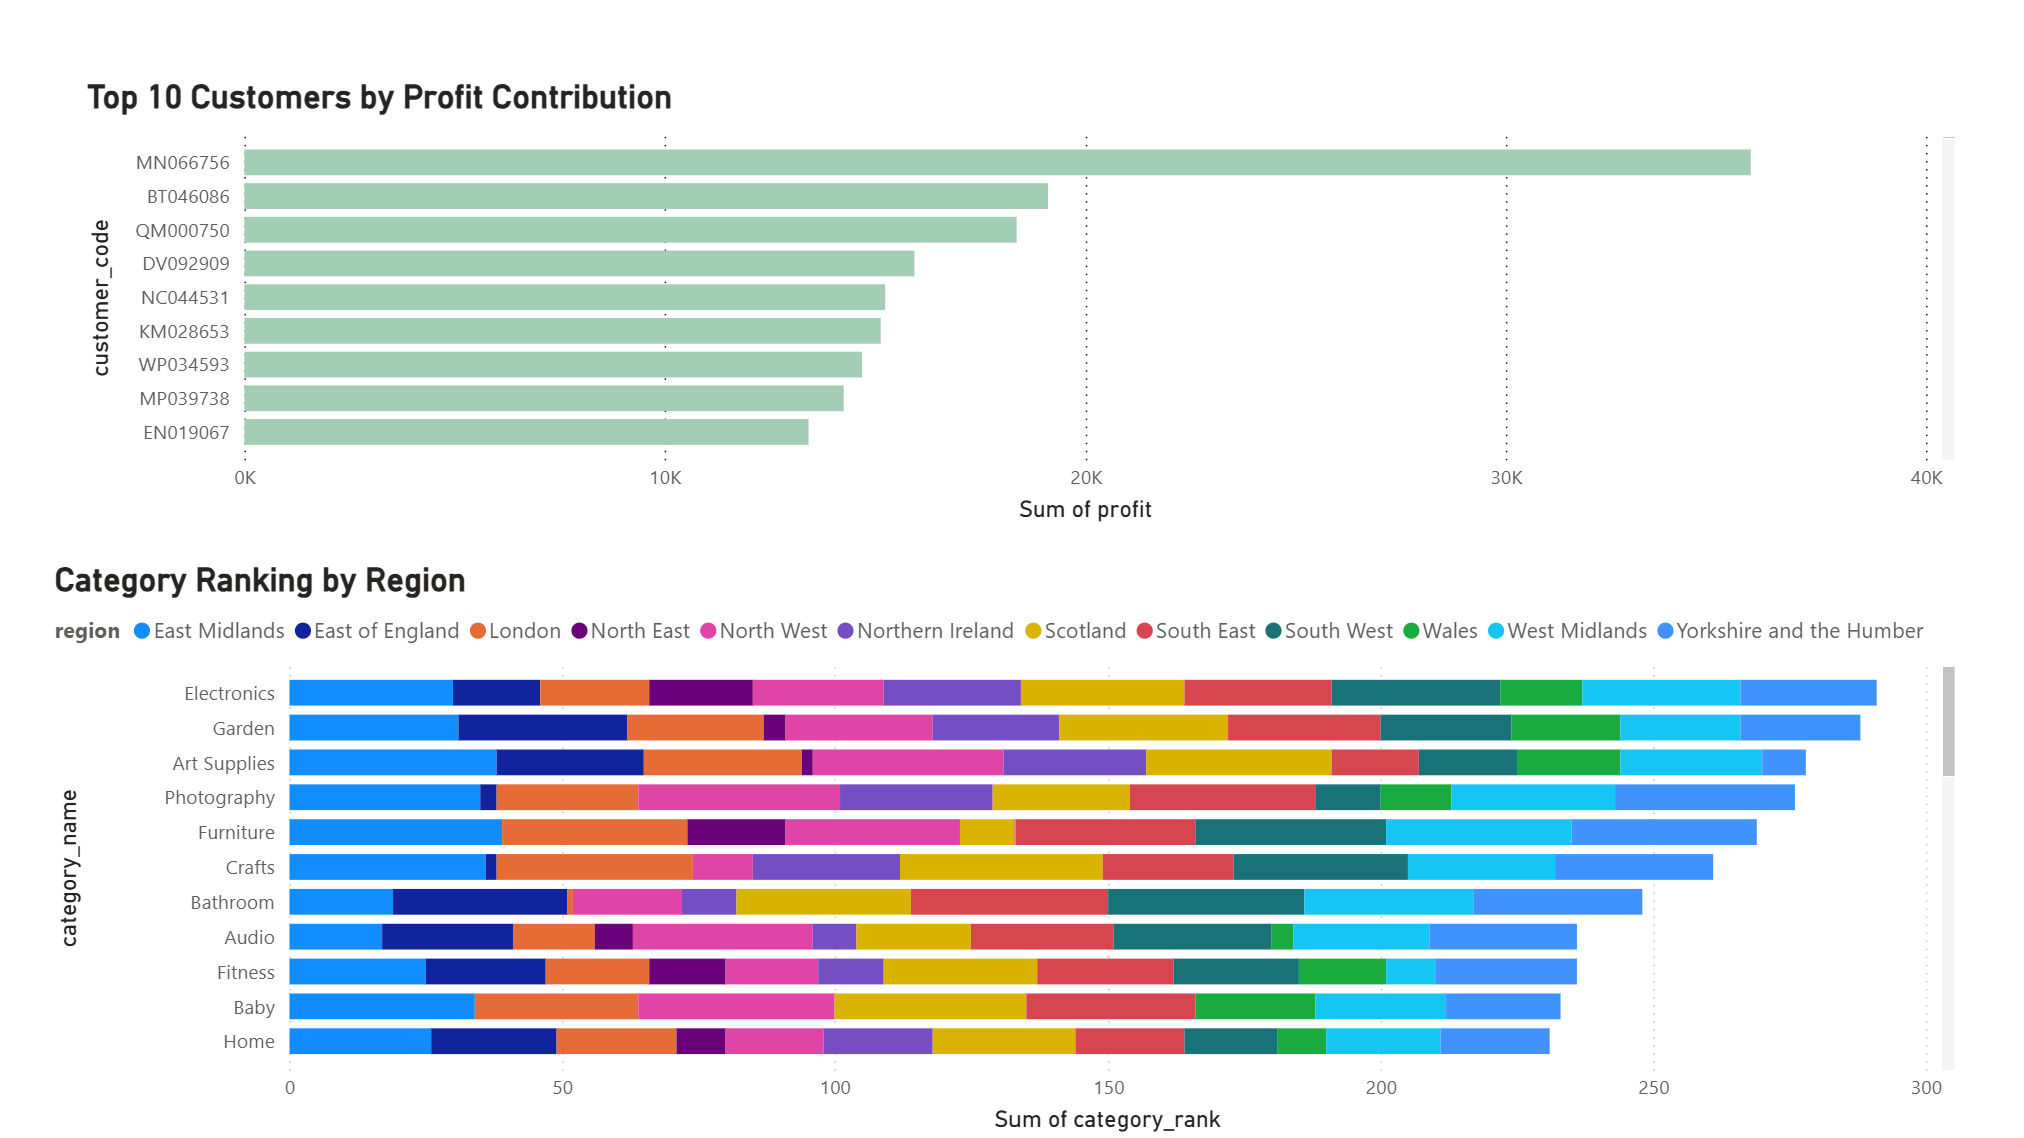

What the dashboard file says about the page in this screenshot:
{"tool":"powerbi","page":{"name":"Page 2","canvas":[1280,720],"ordinal":1},"visuals":[{"type":"clusteredBarChart","title":"Top 10 Customers by Profit Contribution","fields":{"Category":["ace_superstore dim_customer.customer_code"],"Y":["Sum(ace_superstore fact_sales.profit)"]},"box":[57.1,59.6,958.3,280.5],"z":0},{"type":"barChart","title":"Category Ranking by Region ","fields":{"Category":["ace_superstore vw_region_category_rankings.category_name"],"Y":["Sum(ace_superstore vw_region_category_rankings.category_rank)"],"Series":["ace_superstore vw_region_category_rankings.region"]},"box":[37.2,360,1097.4,360],"z":1000}]}

Visuals, with their boxes in screenshot pixels (x1, y1, x2, y2), scaled from the page's 1280x720 canvas onto the 2024x1138 screenshot:
"Top 10 Customers by Profit Contribution" clusteredBarChart: 90 94 1606 538
"Category Ranking by Region " barChart: 59 569 1794 1137
